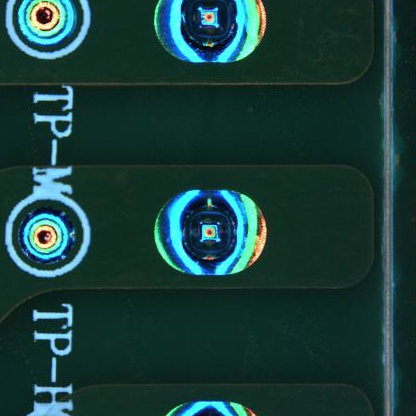spot: (144, 178, 274, 283), (9, 202, 87, 269)
